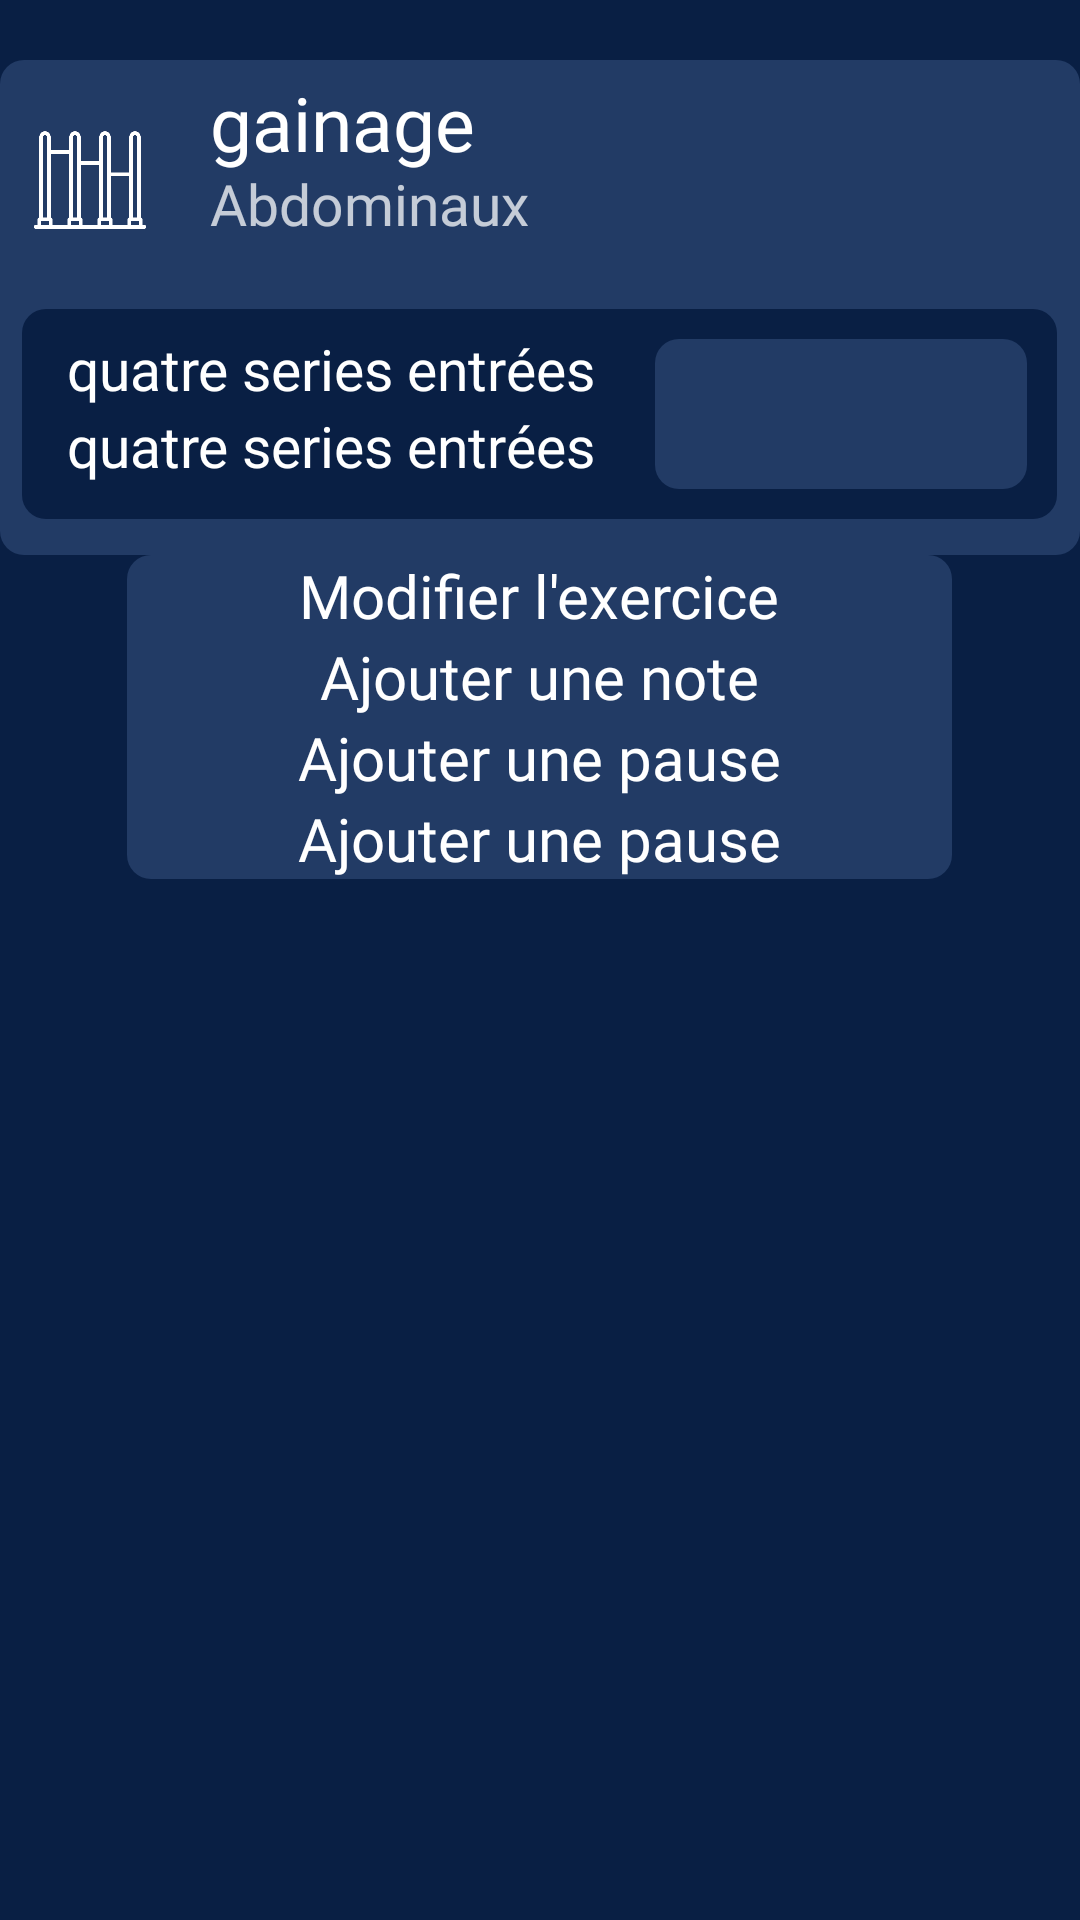

Icon bounding boxes for this 1080*1920 phone screenshot, format (x1, y1, x2, y2):
traction: (34, 131, 146, 229)
